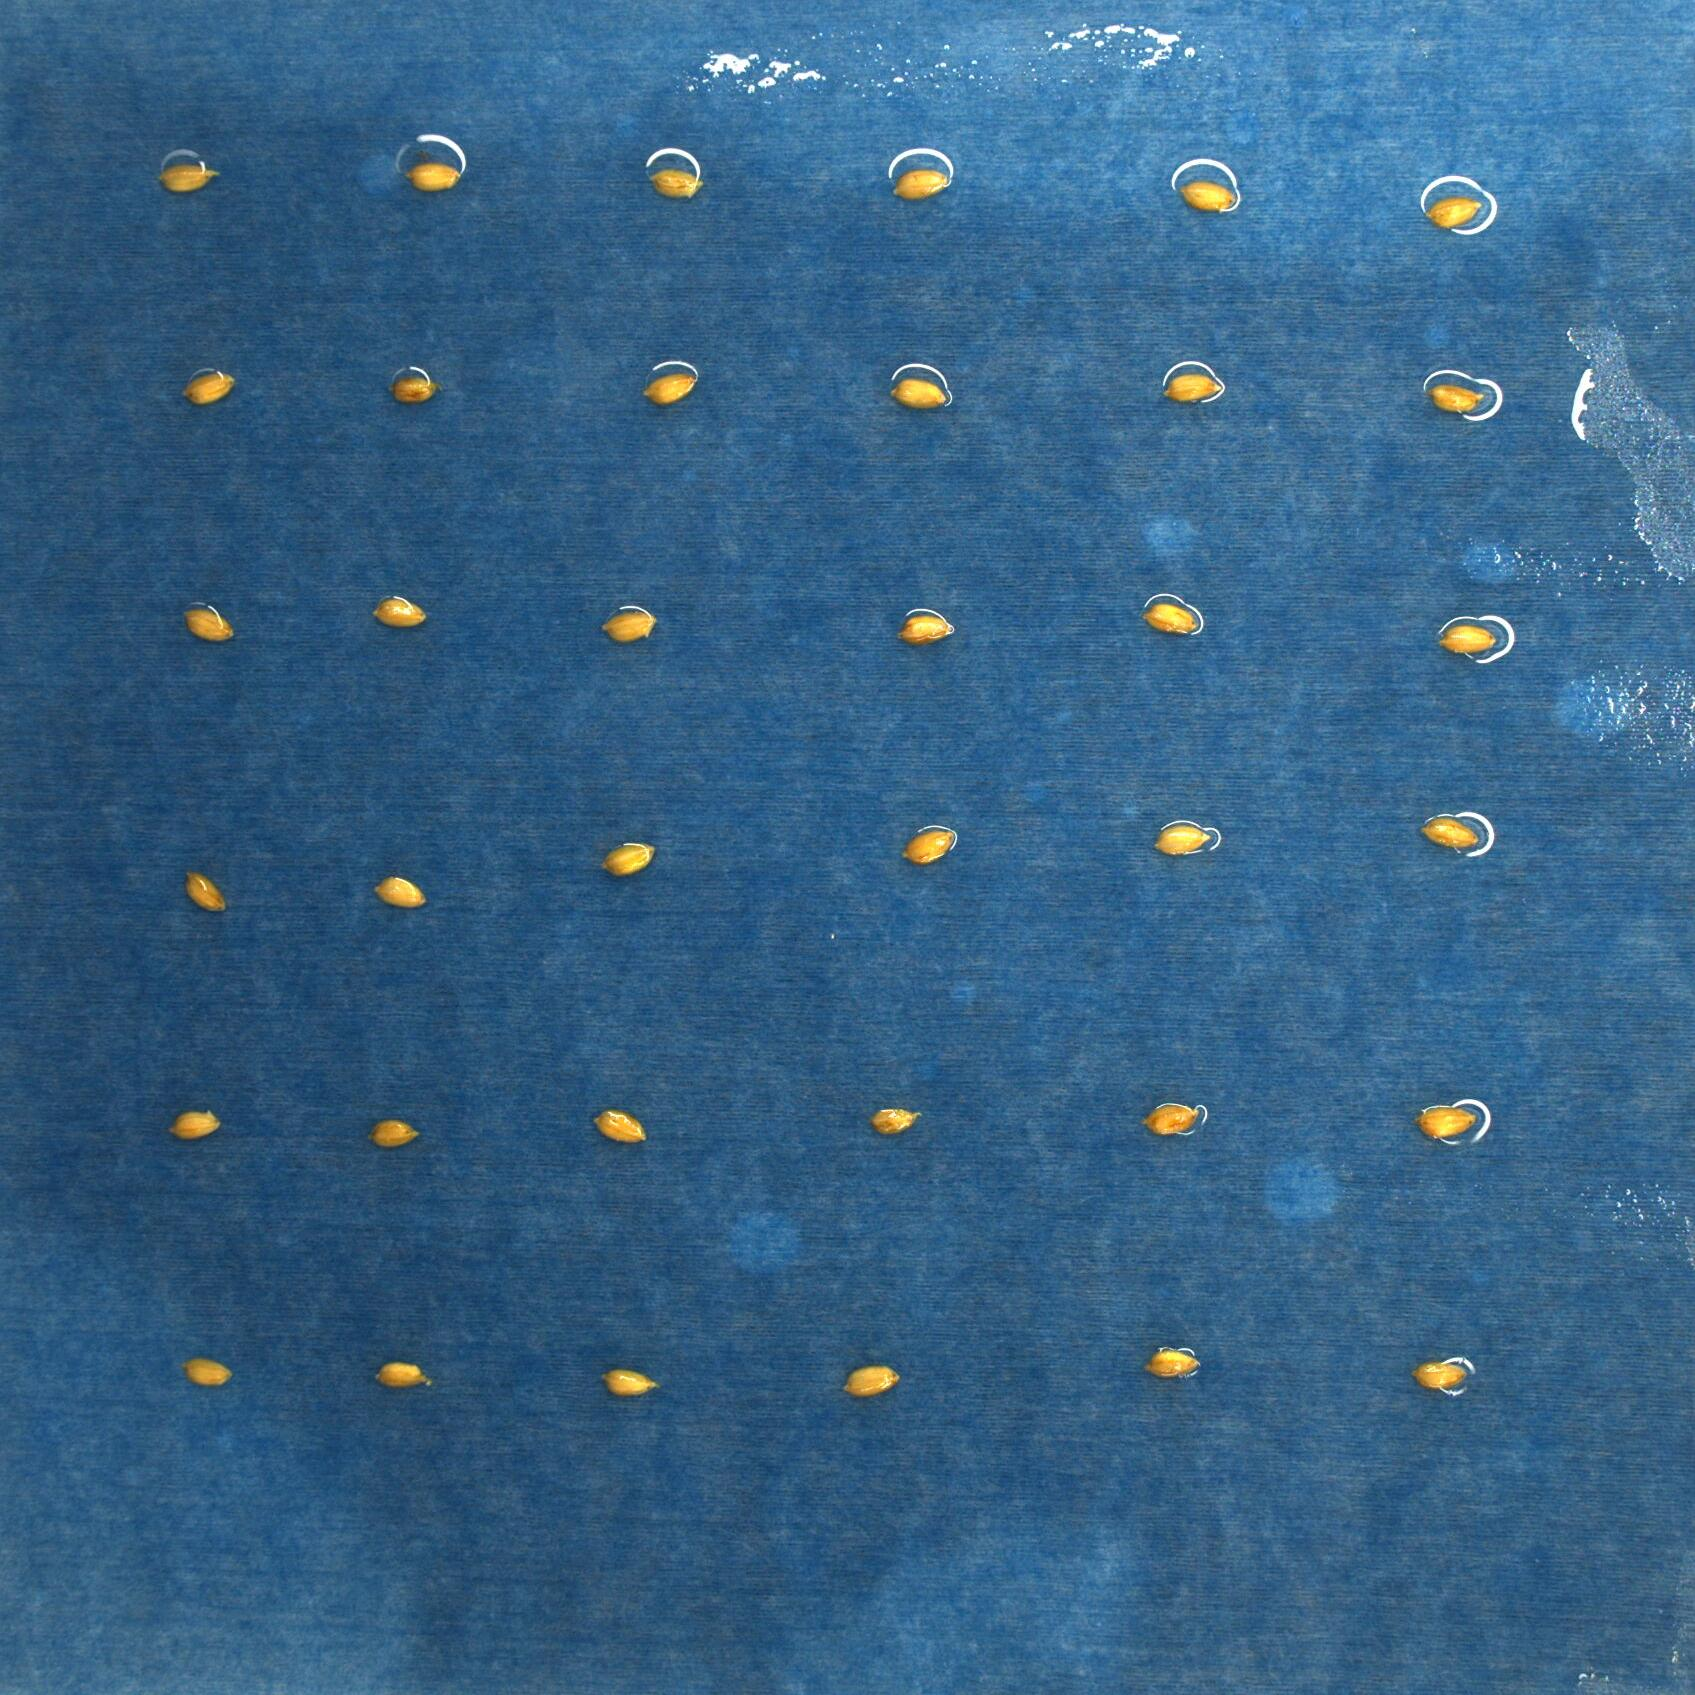not sprout: (903, 823, 962, 868), (1153, 821, 1223, 858), (1412, 1104, 1484, 1139), (841, 1361, 902, 1403), (1419, 816, 1481, 854), (1141, 1101, 1203, 1138), (1405, 1358, 1473, 1391), (1423, 194, 1482, 230), (599, 840, 657, 875), (1141, 1346, 1203, 1378), (369, 874, 425, 910), (601, 1366, 661, 1399), (601, 608, 658, 643), (591, 1108, 649, 1142), (373, 1357, 430, 1391), (182, 369, 236, 405), (646, 371, 695, 410), (1180, 179, 1236, 213), (891, 379, 947, 413), (1163, 373, 1223, 404), (1141, 602, 1198, 635), (893, 168, 951, 199), (1434, 624, 1496, 653), (185, 869, 227, 913), (373, 594, 425, 629), (1426, 383, 1485, 413), (158, 165, 220, 192), (899, 613, 951, 646), (182, 1355, 234, 1388), (185, 608, 234, 643), (404, 161, 461, 191), (647, 168, 702, 199), (868, 1104, 922, 1135), (369, 1119, 421, 1152), (169, 1108, 222, 1139), (393, 373, 441, 404)
